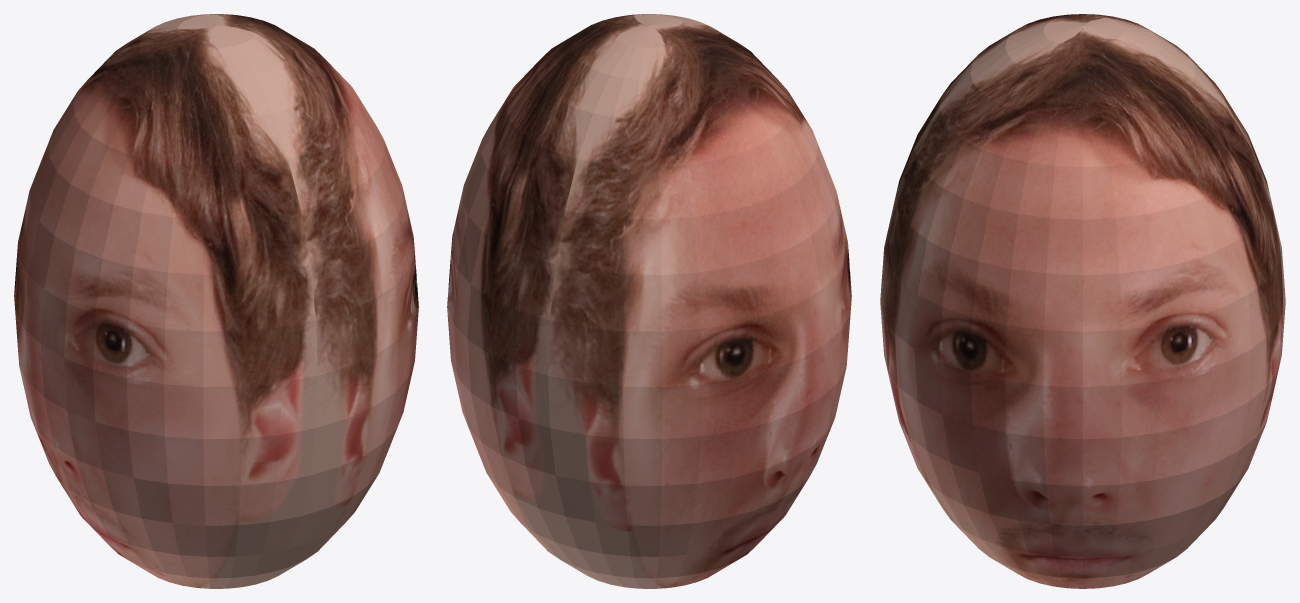
File: Naumov.629c1ec5.glb
3 views of the same model, side by side, from view 1: azimuth 30°, elevation 25°; view 2: azimuth 150°, elevation 25°; view 3: azimuth 270°, elevation 25° (orthographic).
Parts seen in each view (by area): view 1: Sphere; view 2: Sphere; view 3: Sphere.
Boxes of the visible parts, bbox=[...] form: Sphere: bbox=[14, 14, 418, 588]; Sphere: bbox=[447, 14, 851, 588]; Sphere: bbox=[880, 14, 1285, 588].
Size of the model in its own units: 2 by 3 by 2.
Materials: 1 (1 with a texture image).
